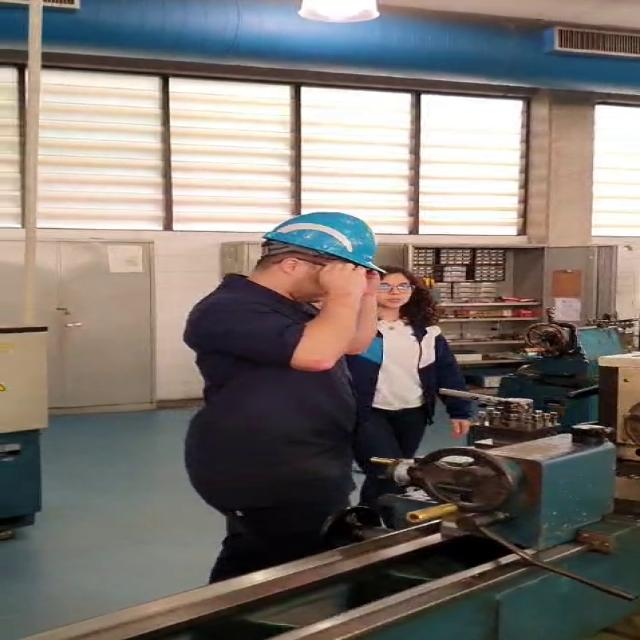sem_oculos: (366, 274, 422, 298)
